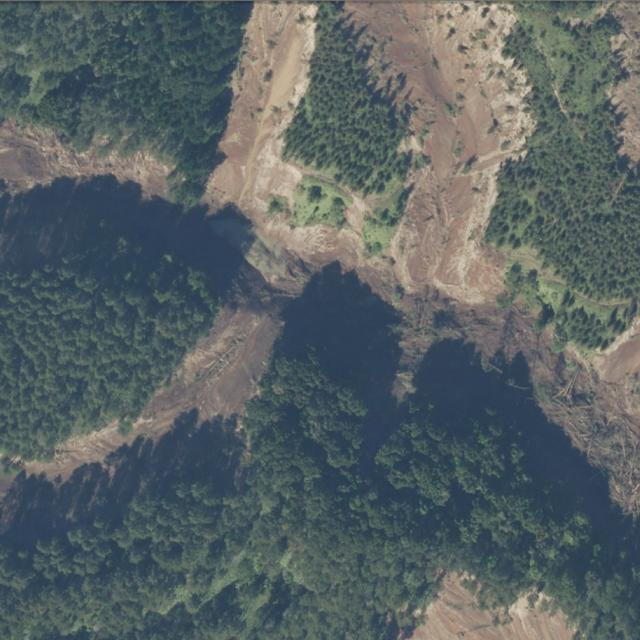landslide: (22, 1, 640, 513), (0, 121, 166, 194), (412, 574, 575, 640)
